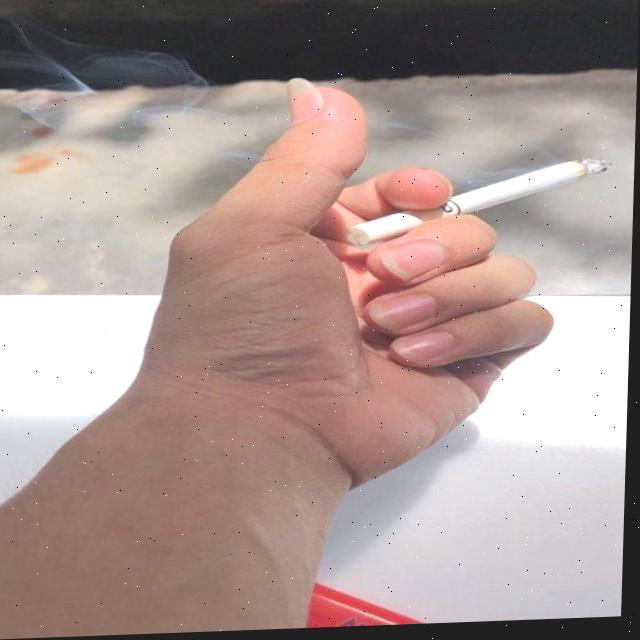cigarette: (348, 158, 606, 246)
